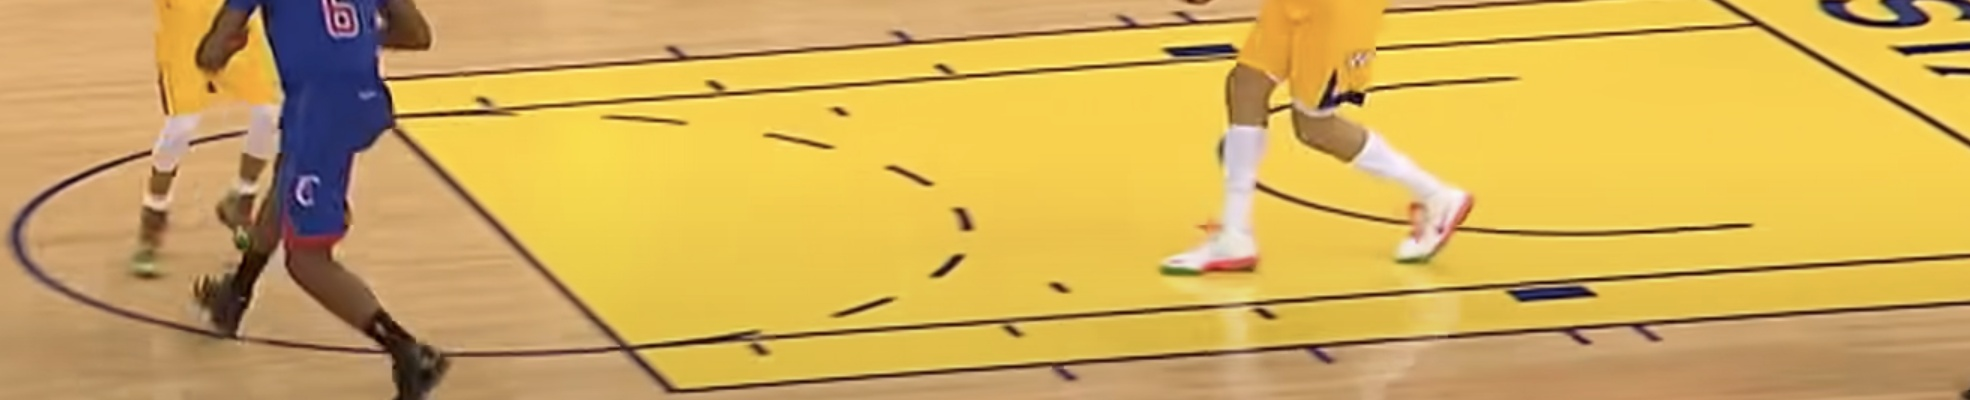endLine: (1722, 3, 1970, 143)
freeThrow: (362, 83, 678, 399)
lane: (683, 299, 1970, 392), (369, 1, 1589, 81)
